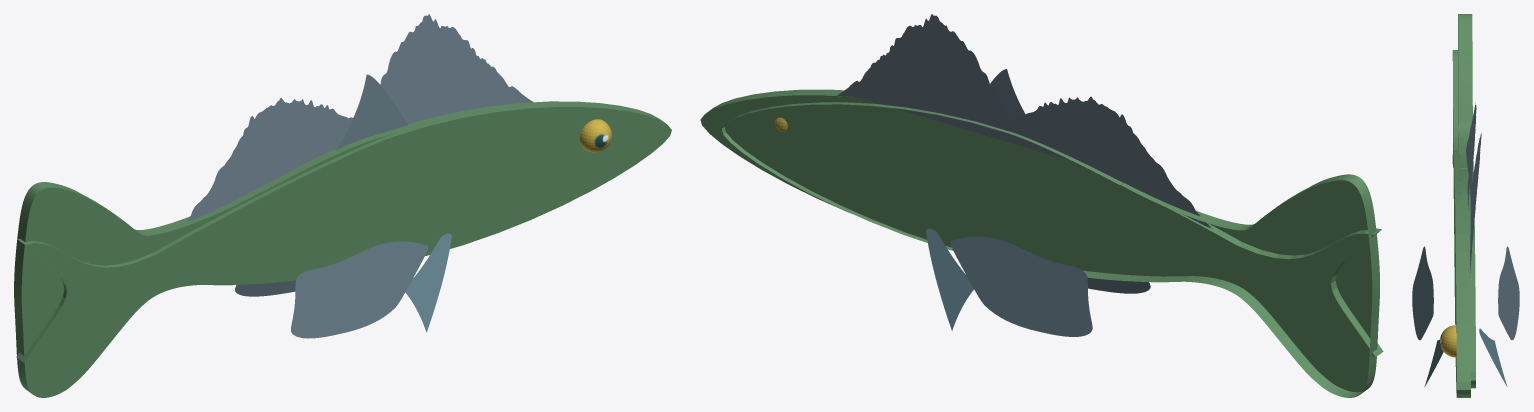
The model's file is flatfish.glb.
3 renders of one model, left to right at view 1: azimuth 30°, elevation 25°; view 2: azimuth 150°, elevation 25°; view 3: azimuth 270°, elevation 25°, orthographic. The views are drawn at different scales.
Visible parts, largest first — view 1: back_fin_1, back_fin_2, top_fin_2, side_fin_2, top_fin_1, side_fin_1, eye; view 2: back_fin_1, back_fin_2, top_fin_2, side_fin_2, side_fin_1, top_fin_1; view 3: back_fin_1, back_fin_2, side_fin_2, top_fin_2, side_fin_1, eye, top_fin_1.
Boxes of the visible parts, x1,y1,x2,y2 form: back_fin_1: [16, 101, 671, 362]; back_fin_2: [14, 131, 392, 397]; top_fin_2: [186, 14, 533, 221]; side_fin_2: [235, 241, 428, 338]; top_fin_1: [335, 74, 408, 150]; side_fin_1: [405, 233, 451, 332]; eye: [579, 119, 611, 152]; back_fin_1: [700, 89, 1383, 357]; back_fin_2: [722, 102, 1379, 397]; top_fin_2: [837, 14, 1211, 228]; side_fin_2: [950, 236, 1150, 336]; side_fin_1: [926, 228, 973, 330]; top_fin_1: [990, 69, 1025, 122]; back_fin_1: [1452, 50, 1470, 397]; back_fin_2: [1458, 14, 1475, 388]; side_fin_2: [1412, 246, 1519, 340]; top_fin_2: [1466, 102, 1481, 277]; side_fin_1: [1424, 328, 1507, 386]; eye: [1440, 325, 1456, 357]; top_fin_1: [1467, 142, 1472, 210].
Size of the model in its own units: 77.96 by 33.05 by 11.89.
7 materials, 1 textured.
